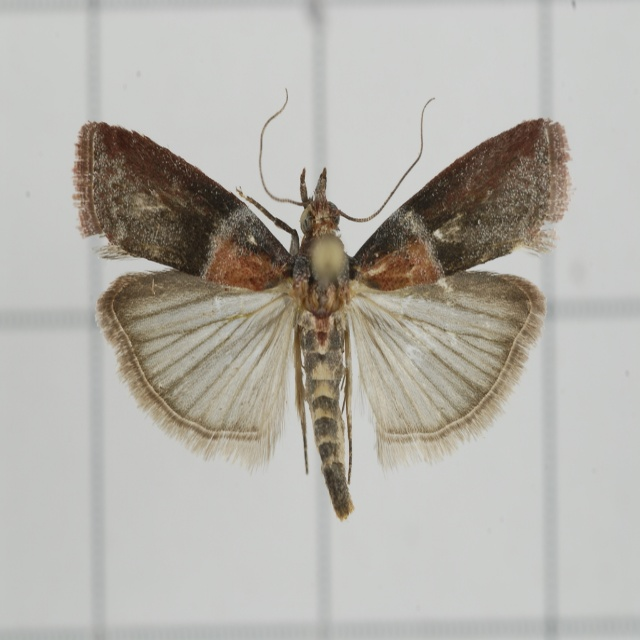Moths and butterflies: (68, 82, 577, 526)
